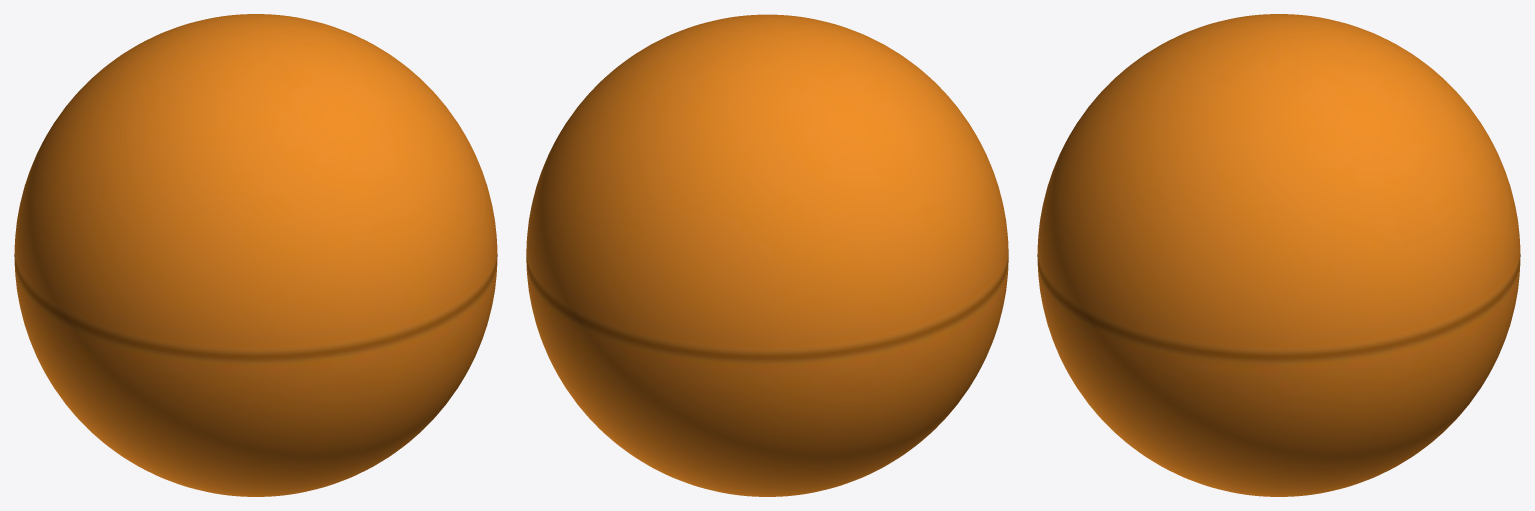
Rendered from ball-table-tennis.glb.
The picture shows the model from 3 angles, left to right: view 1: azimuth 30°, elevation 25°; view 2: azimuth 150°, elevation 25°; view 3: azimuth 270°, elevation 25°; orthographic projection.
Parts seen in each view (by area): view 1: Ball; view 2: Ball; view 3: Ball.
Part boxes in pixels (left/top/right/bottom): Ball: left=14, top=14, right=497, bottom=496; Ball: left=526, top=14, right=1008, bottom=496; Ball: left=1037, top=14, right=1520, bottom=496.
Bounding box in the file's own units: 0.04 × 0.04 × 0.04.
2 materials, 2 textured.
